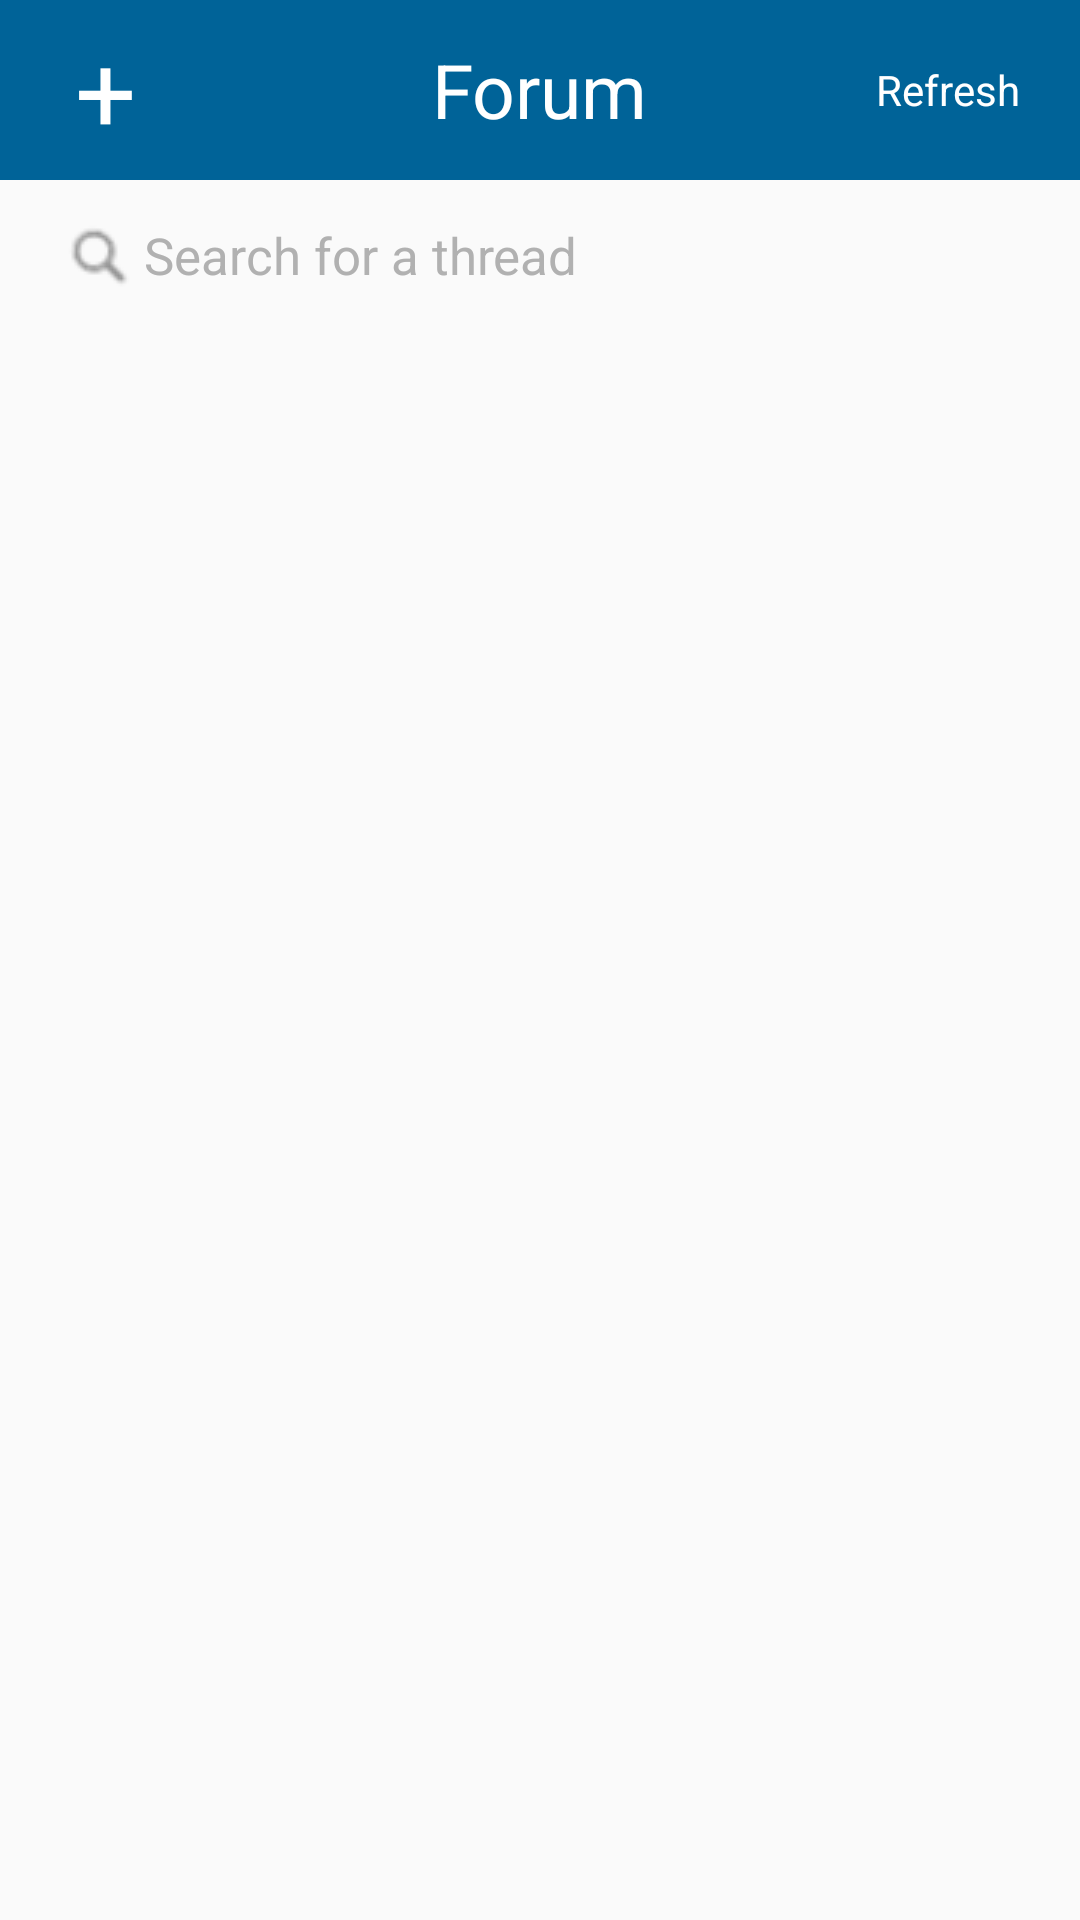

Where to tap for icons on this 1080px x 1920px app screen, as (x=x, y=y):
searchicon: (x=99, y=256)
